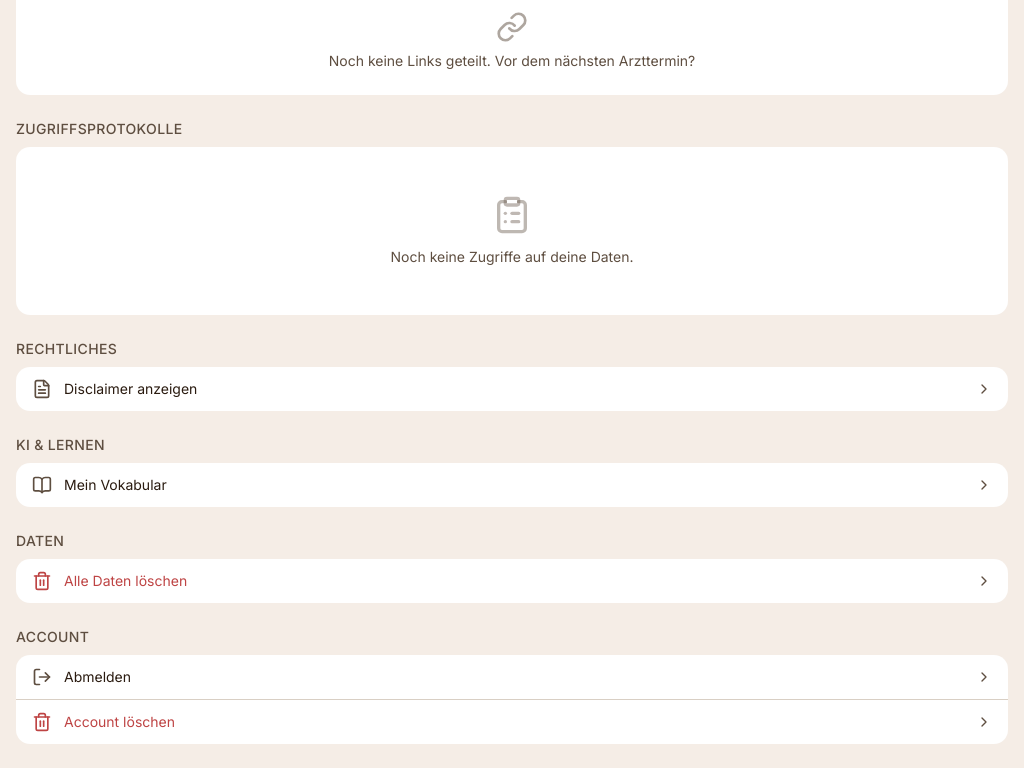
Test: Mehr-Seite › öffnet Delete-Account-Dialog bei Klick auf Löschen-Button
(page scrolled)
What coordinates should you click on to do the following:
click the button "Account löschen"
I would click on:
 (120, 722)
Its box is x1=16 y1=700 x2=1008 y2=744.
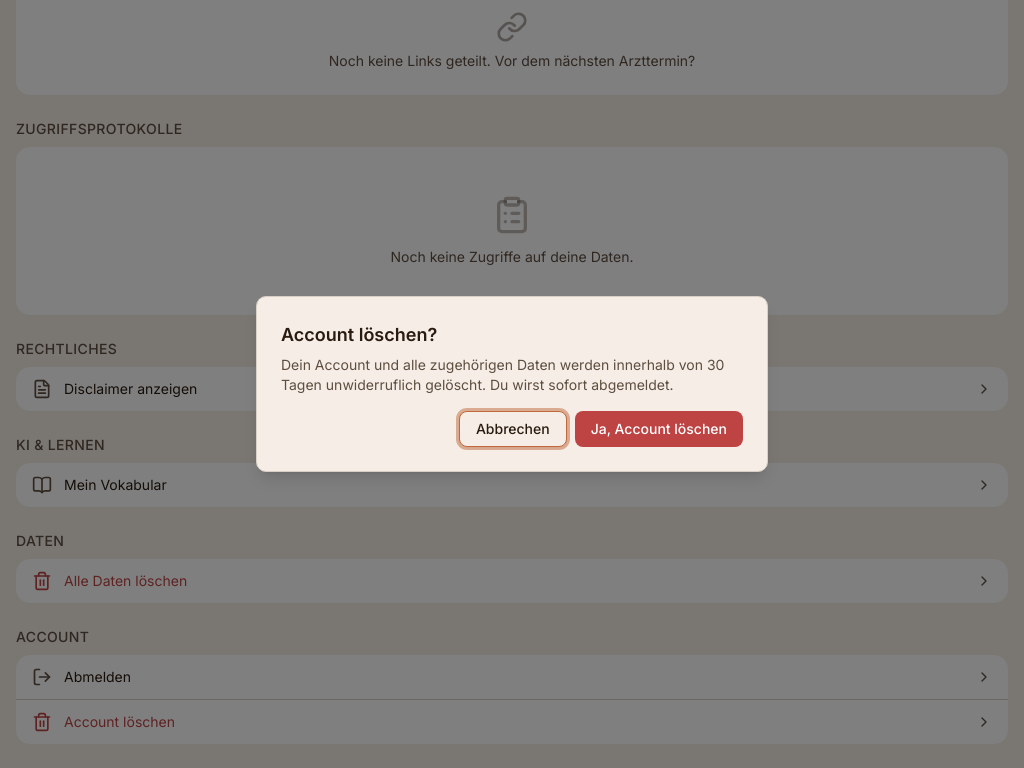
Check: the heading "Account löschen?" is shown, box x1=281 y1=321 x2=437 y2=349
Check: the text "30 Tagen unwiderruflich" is shown, box x1=281 y1=356 x2=724 y2=393
